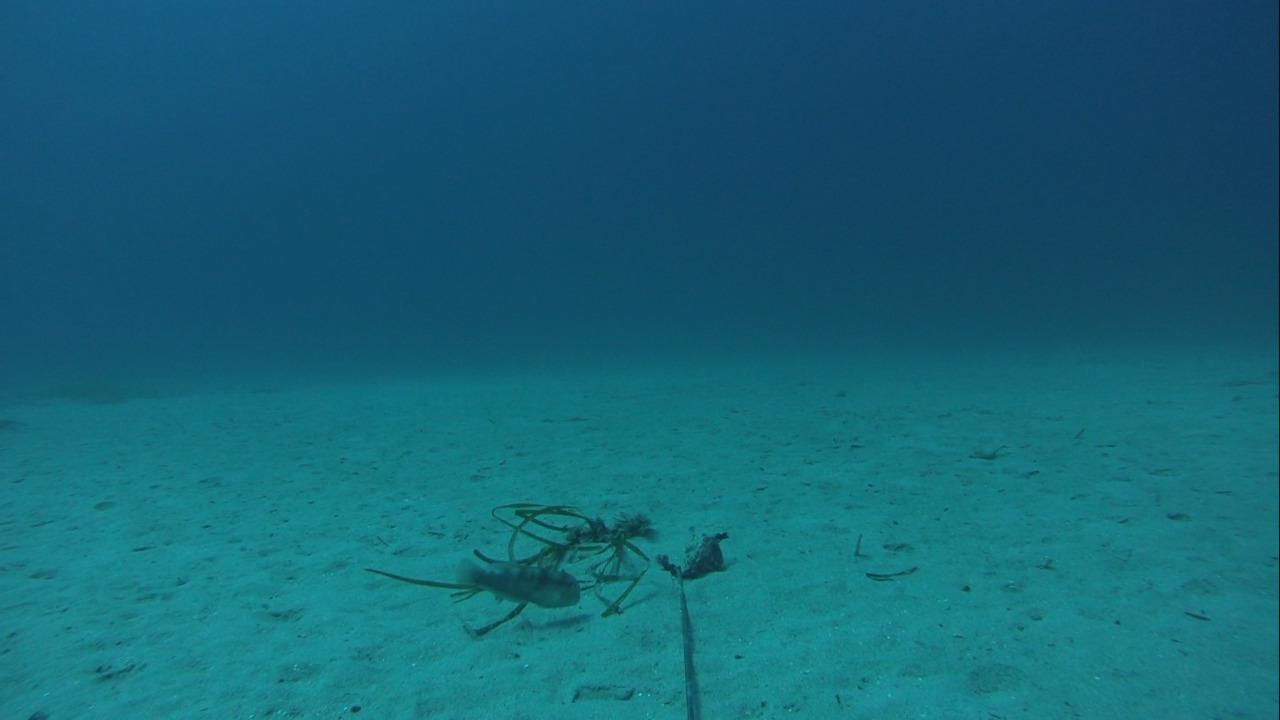raor: (451, 555, 584, 616)
